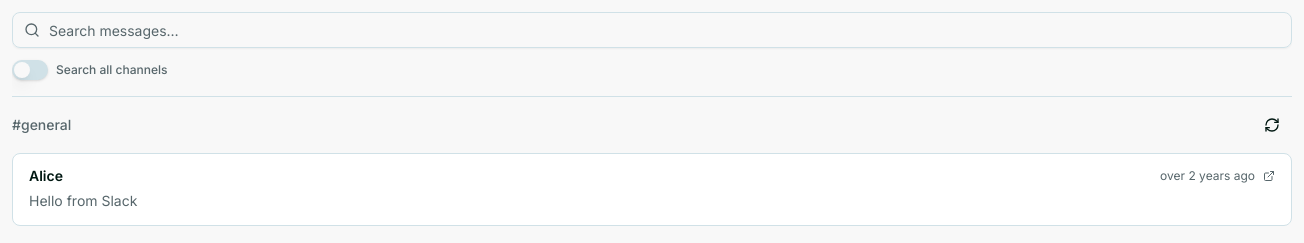
it: SlackMessagesTab › refresh button › re-fetches messages when refresh is clicked
expect the text "Hello from Slack" is shown: met, box left=29, top=192, right=137, bottom=209
Click the button named "refresh": (1272, 125) left=1252, top=109, right=1292, bottom=141
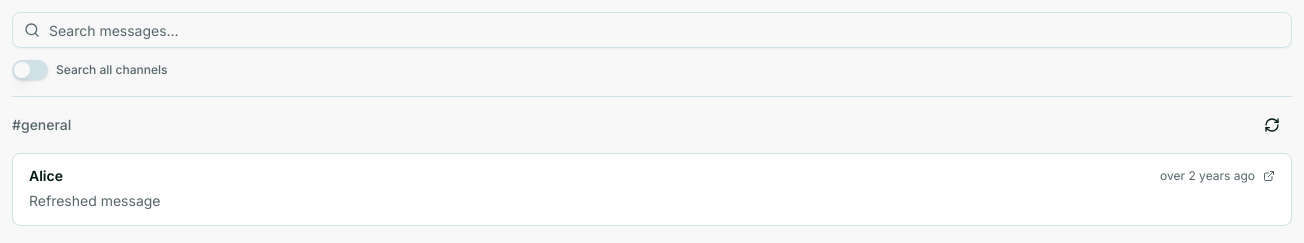
expect the text "Refreshed message" is shown: met, box left=29, top=192, right=160, bottom=209
